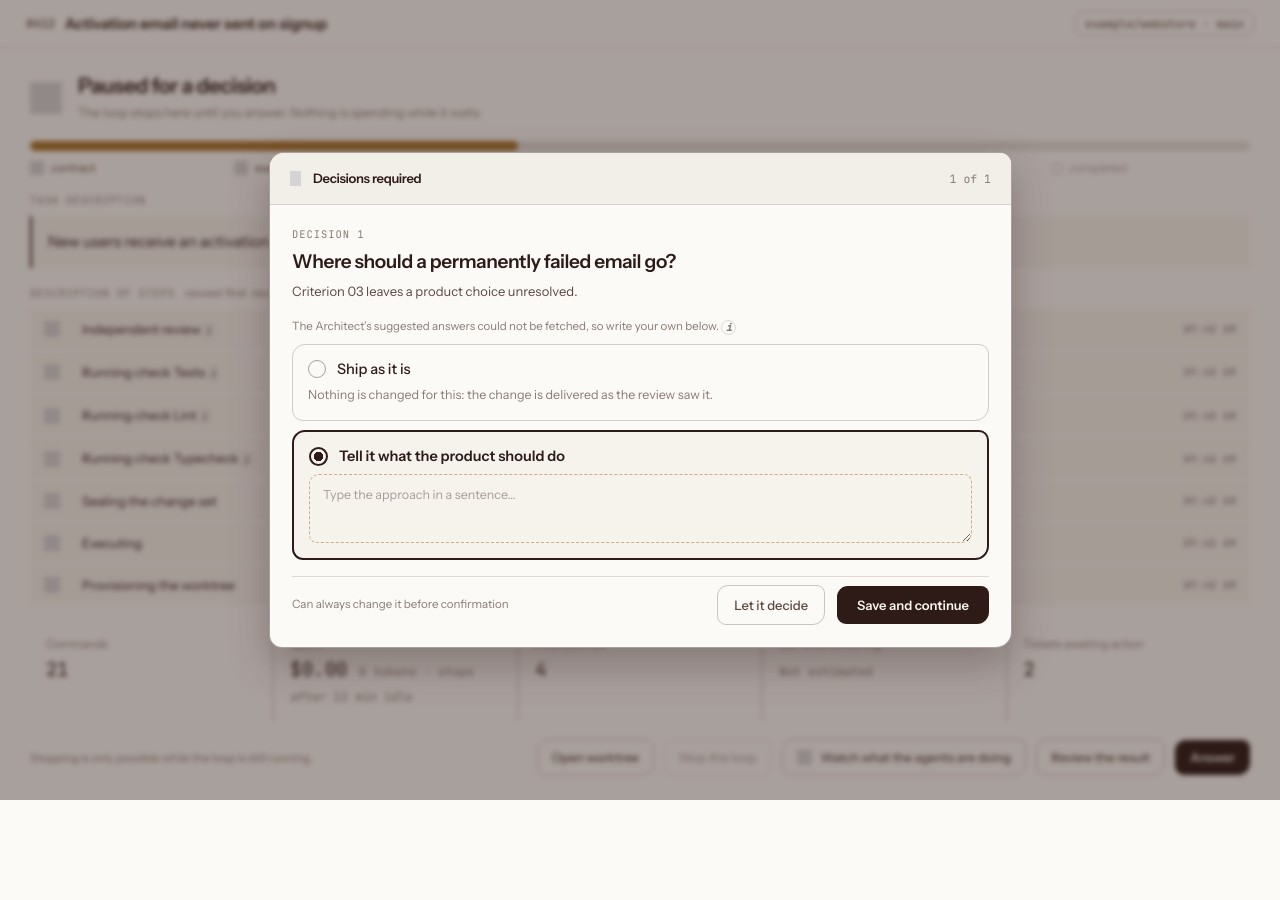
Test: the Architect's answers on the decision card (D-135) › says in one sentence that the answers could not be fetched, with why behind the i, and keeps the typed field
Step 1. Type "Park it and tell on-call." into the text box named "Your approach" → coordinates (640, 509), box [308,474,972,543]
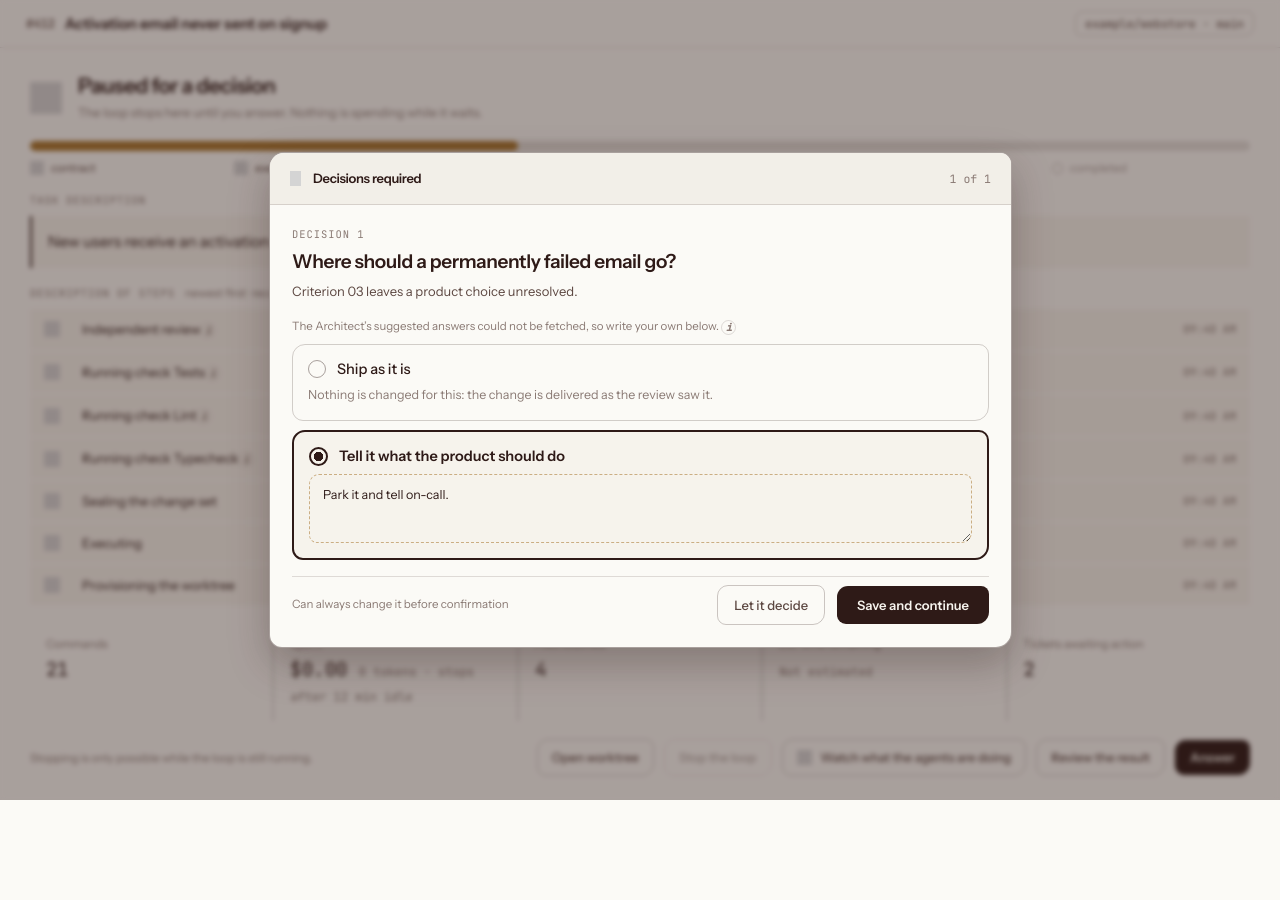
Step 2. Click the button "Save and continue" → coordinates (913, 605), box [837,586,988,624]
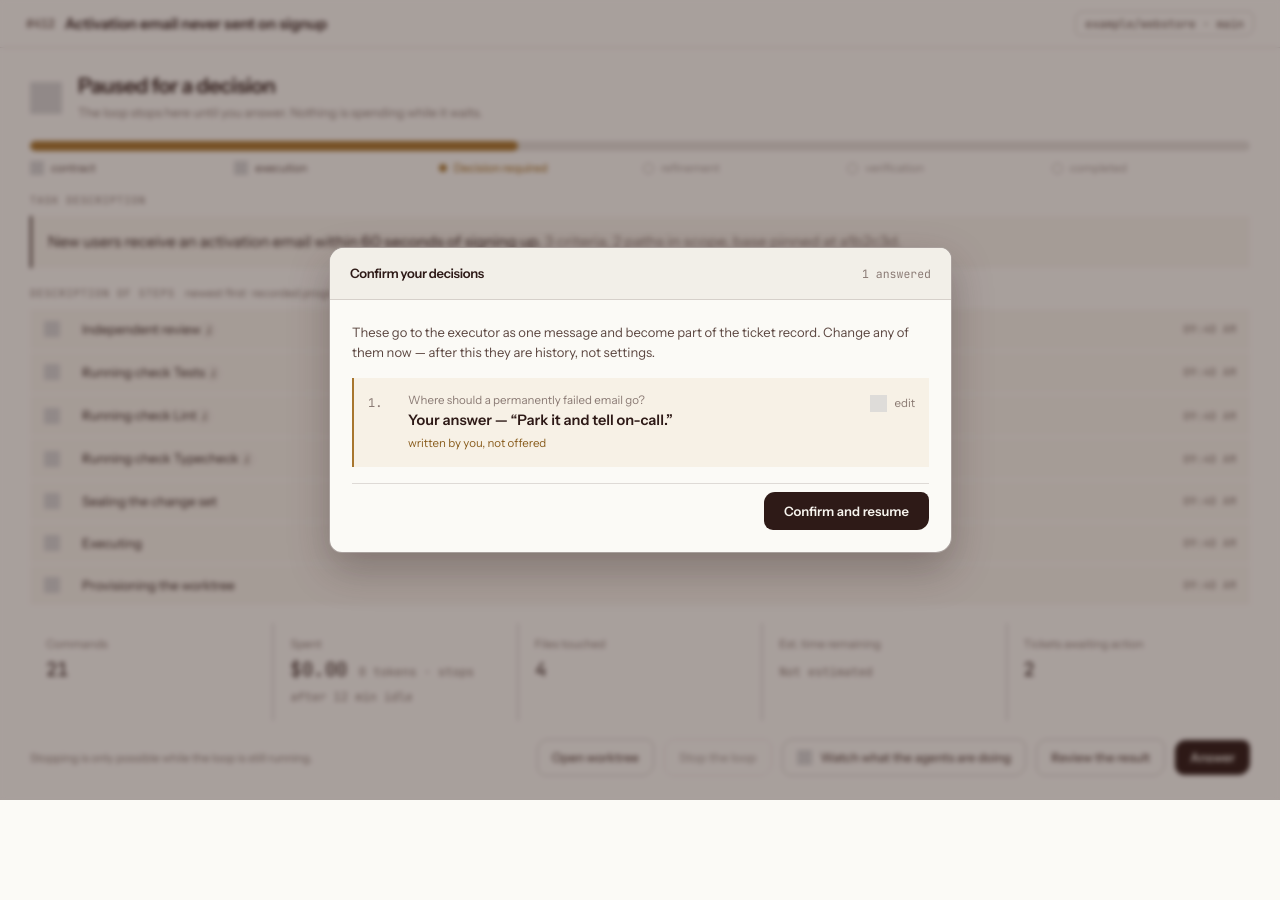
Check: the dialog "Confirm your decisions" is shown, box [328,247,952,553]
